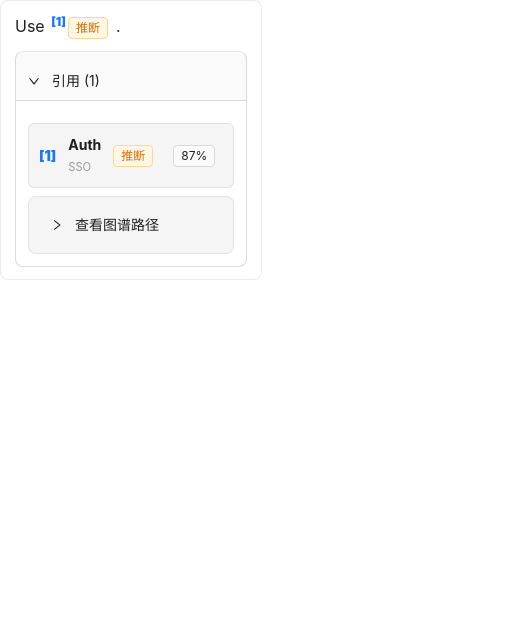
Chat message rendering › renders source-chain details and graph path from direct source_chain_json fields
The image size is (531, 619).
Expected: the text "查看图谱路径" is shown, [75,216,159,233]
Click the button "查看图谱路径" at x=105, y=224, box [51,216,159,233]
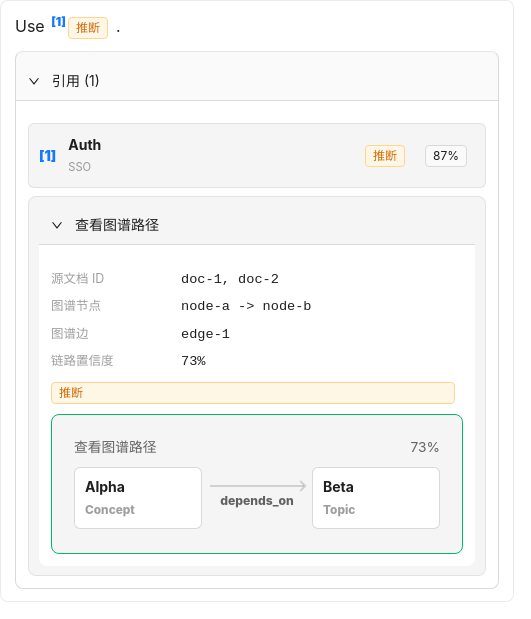
Expected: the text "源文档 ID" is shown, [51,271,104,286]
Expected: the text "doc-1, doc-2" is shown, [181,272,279,287]
Expected: the text "图谱节点" is shown, [51,298,101,313]
